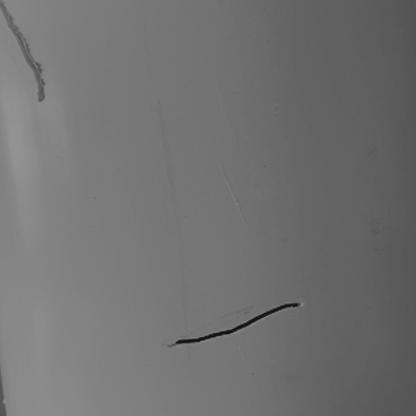fengxi: (170, 303, 303, 350)
sunshang: (1, 1, 49, 103)
